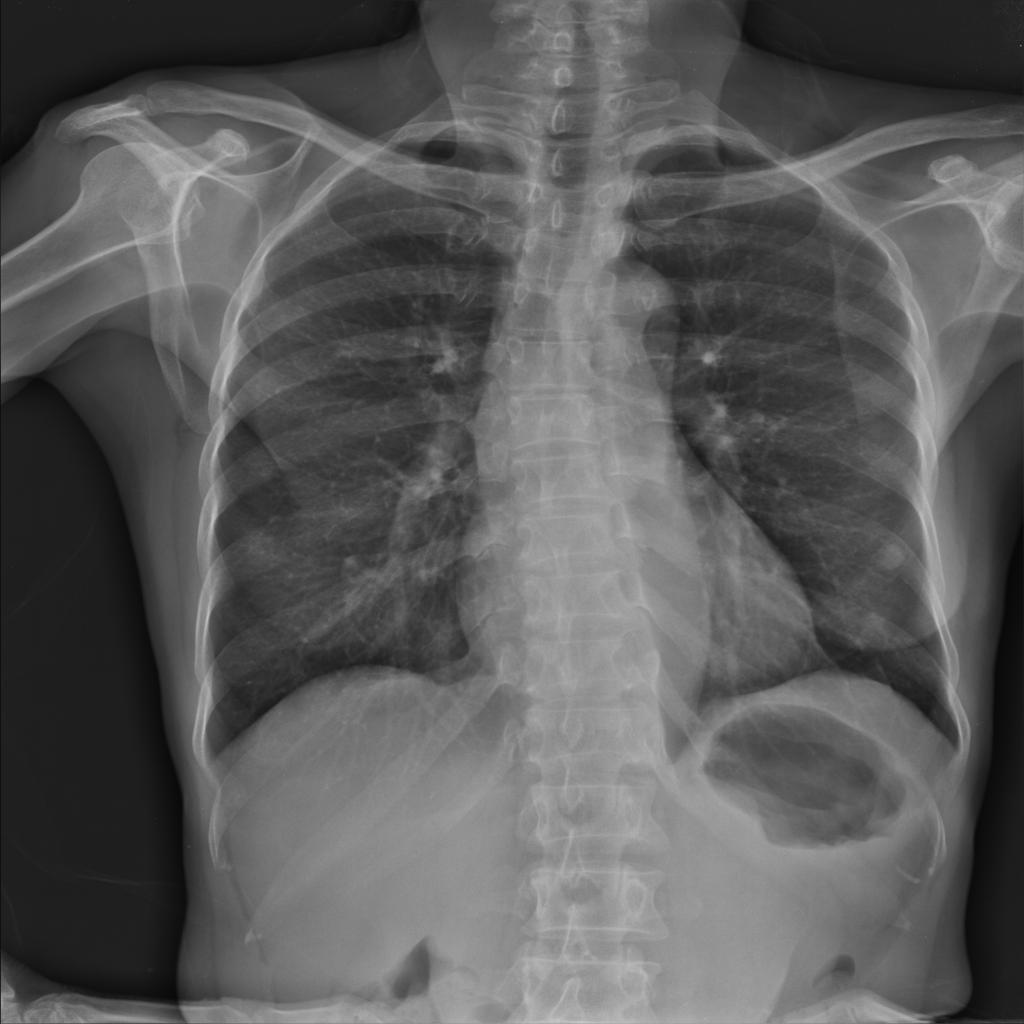Nodule: (337, 556, 371, 585), (876, 545, 909, 569)
